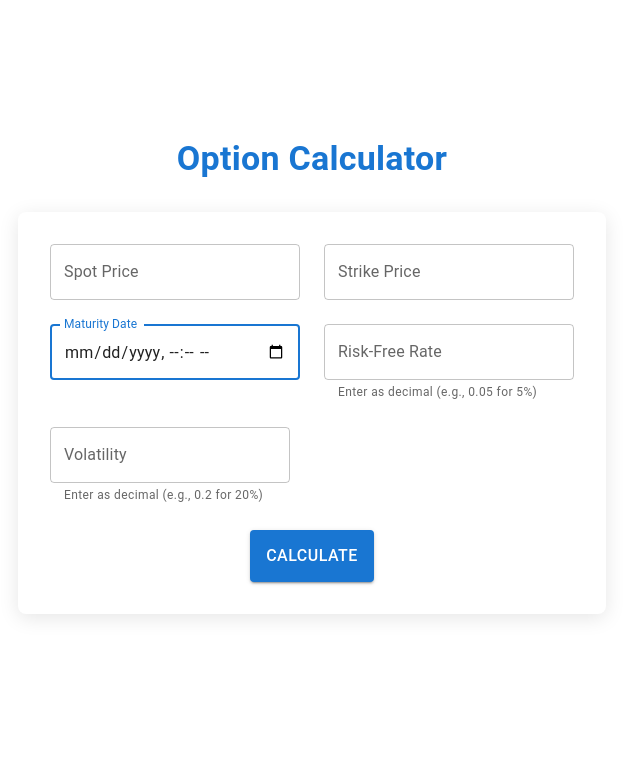
Test case: OptionCalculator › handles form submission and displays results
This screenshot has width=625, height=768.
Note: Fill in form inputs
Type "100" into the number field labelled "Spot Price". click: coordinates (175, 272)
box: [50, 244, 300, 300]
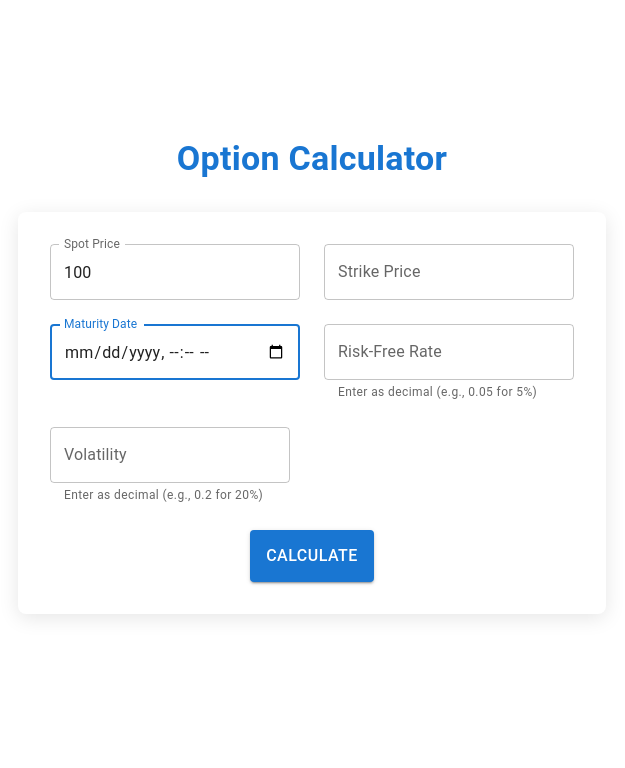
Type "110" into the number field labelled "Strike Price". click: coordinates (449, 272)
box: [324, 244, 574, 300]
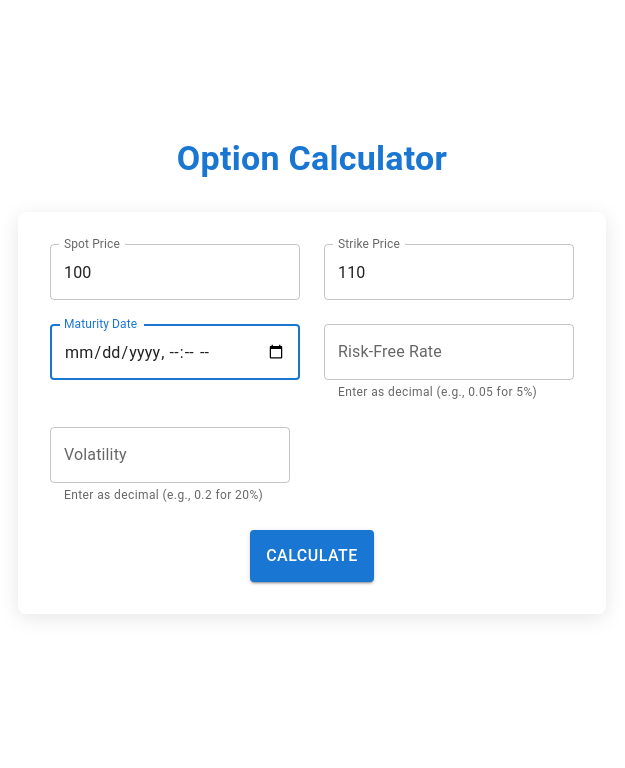
Type "2024-12-31T23:59" into the field labelled "Maturity Date". click: coordinates (175, 352)
box: [50, 324, 300, 380]
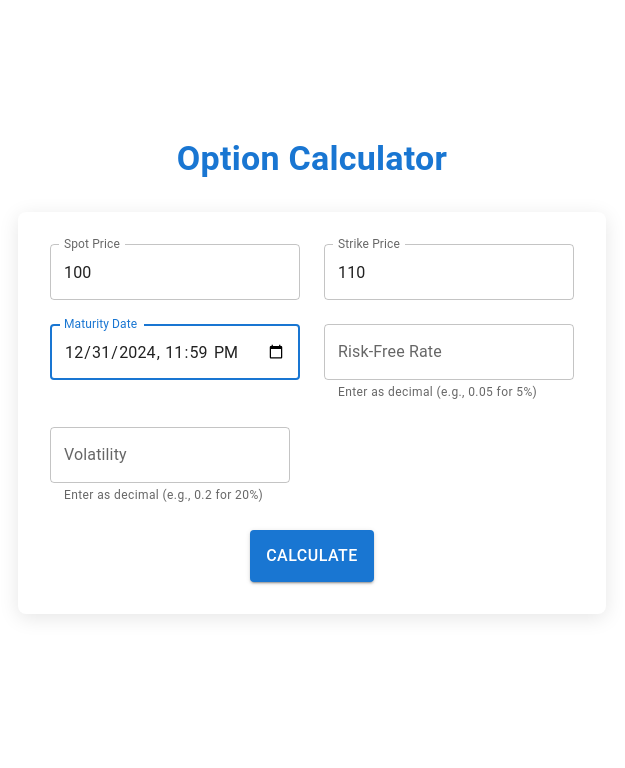
Type "0.05" into the number field labelled "Risk-Free Rate". click: coordinates (449, 352)
box: [324, 324, 574, 380]
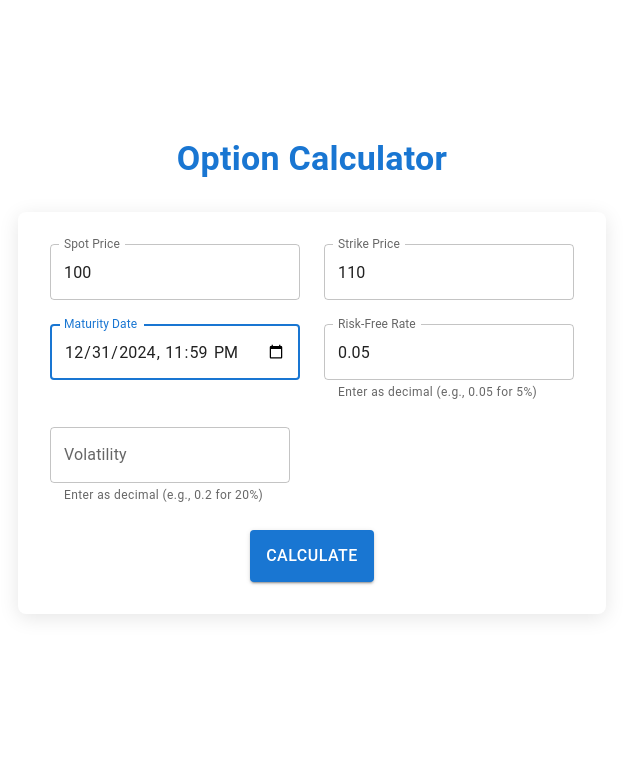
Type "0.2" into the number field labelled "Volatility". click: coordinates (170, 455)
box: [50, 427, 290, 483]
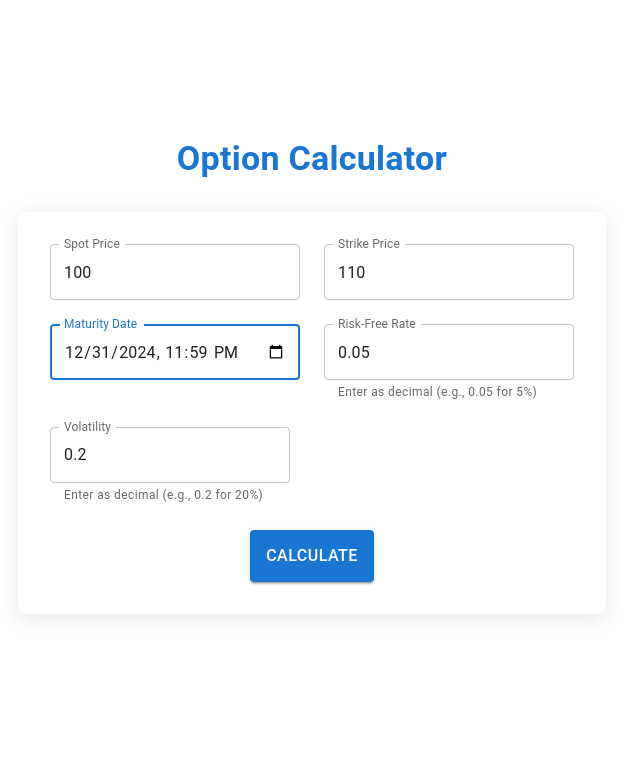
Note: Submit the form
Click the button "Calculate". click: coordinates (312, 556)
box: [250, 530, 374, 582]
(page scrolled)
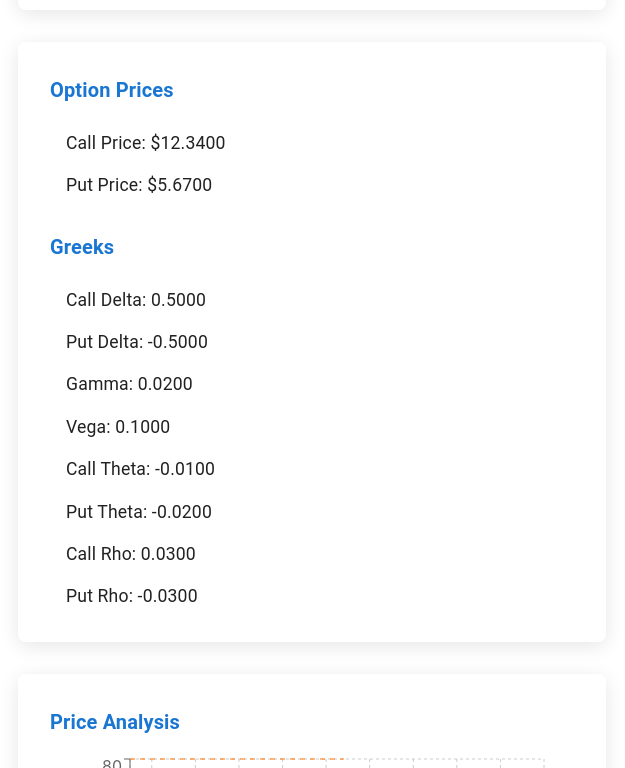
Result: the text "Call Price: $12.3400" is shown at [66, 133, 226, 153]
Result: the text "Put Price: $5.6700" is shown at [66, 175, 212, 195]
Result: the text "Call Delta: 0.5000" is shown at [66, 290, 206, 310]
